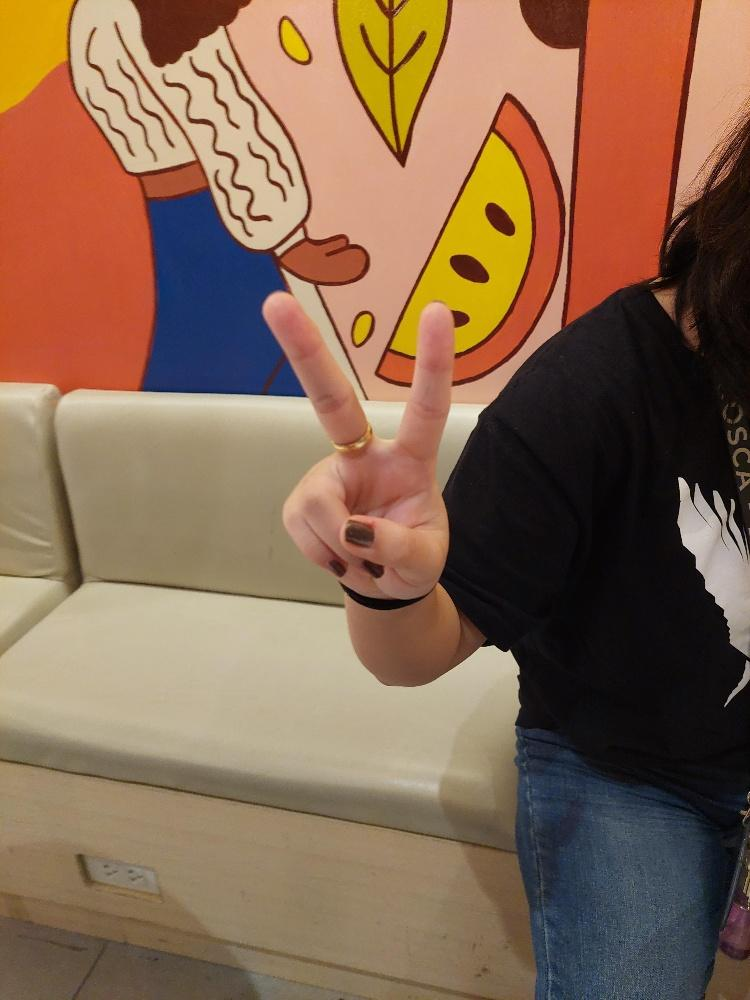v: (257, 287, 455, 606)
